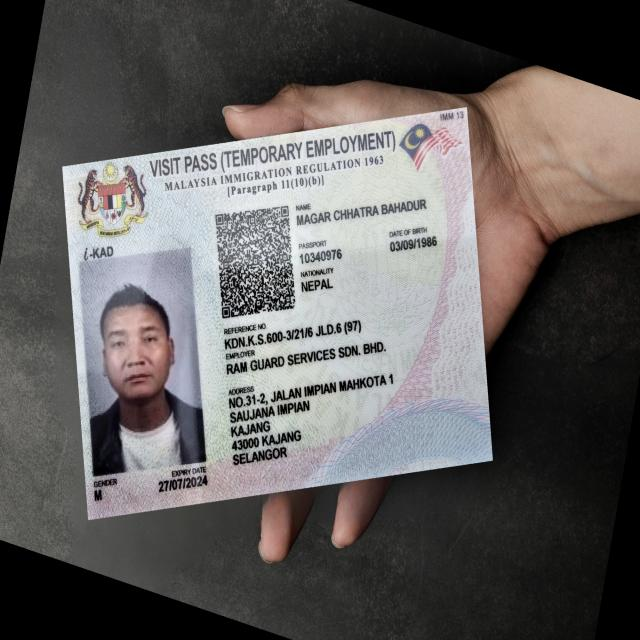ikad-temp: (61, 105, 493, 520)
